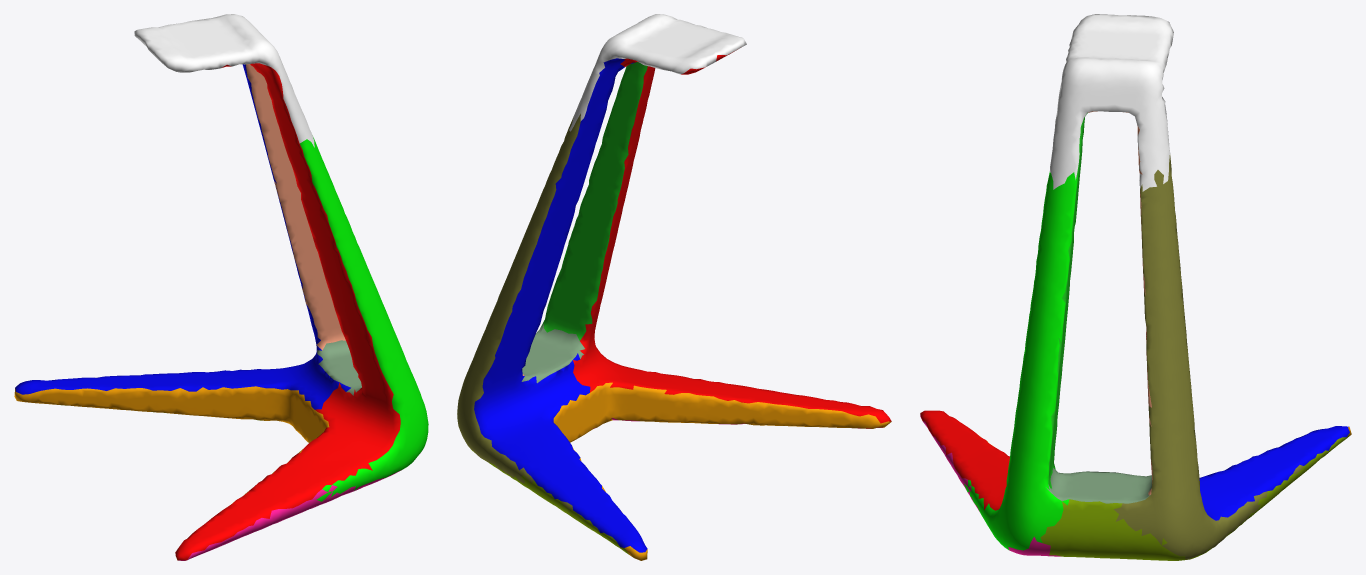
Rendered from model_3_segmented_new.obj.
3 views of the same model, side by side, from view 1: azimuth 30°, elevation 25°; view 2: azimuth 150°, elevation 25°; view 3: azimuth 270°, elevation 25° (orthographic). The views are drawn at different scales.
Bounding box in the file's own units: 162 × 212 × 189.
